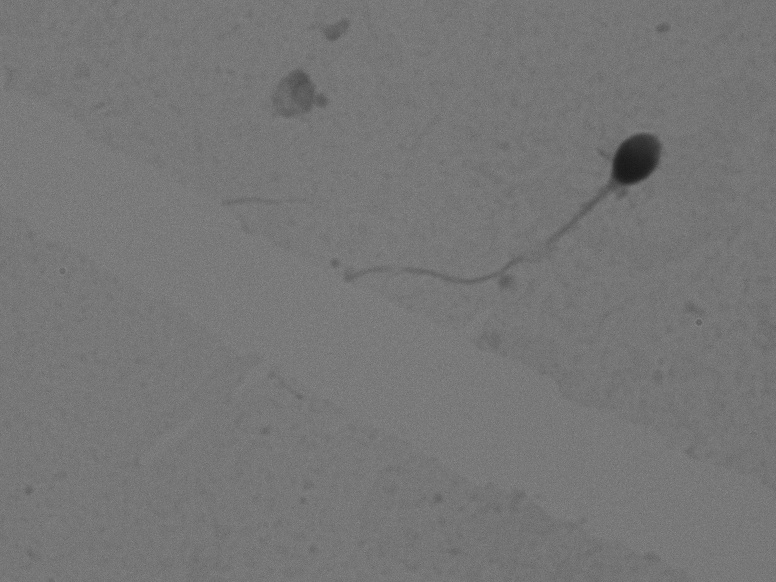Abnormal: (332, 82, 694, 325)
